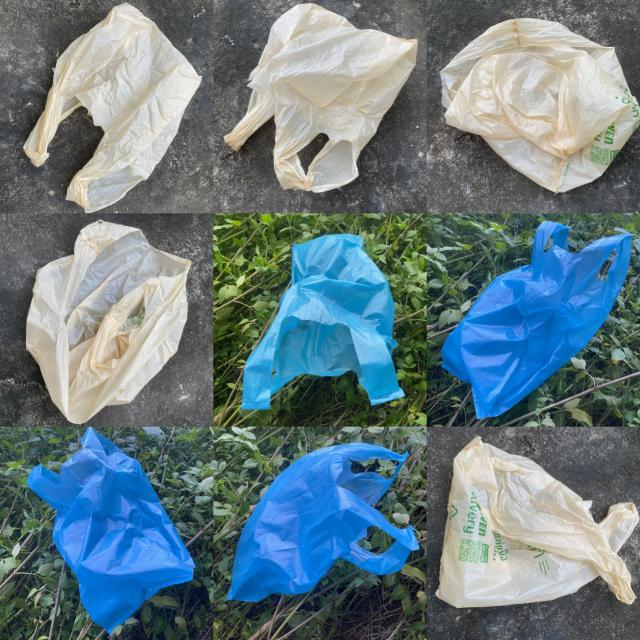Single-layer Plastic: (441, 221, 632, 419), (24, 4, 201, 212), (225, 4, 418, 192), (436, 436, 639, 607), (441, 19, 640, 192), (28, 428, 194, 631), (26, 221, 190, 424), (228, 442, 419, 601), (242, 234, 404, 410)
